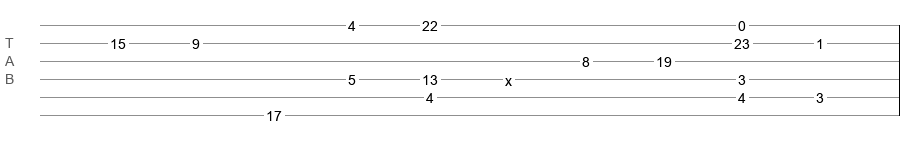0: (738, 18, 746, 28)
1: (816, 36, 824, 46)
13: (422, 72, 438, 82)
15: (110, 36, 126, 46)
17: (266, 108, 282, 118)
19: (656, 54, 672, 64)
22: (422, 18, 438, 28)
23: (734, 36, 750, 46)
3: (738, 72, 746, 82), (816, 90, 824, 100)
4: (348, 18, 356, 28), (426, 90, 434, 100), (738, 90, 746, 100)
5: (348, 72, 356, 82)
8: (582, 54, 590, 64)
9: (192, 36, 200, 46)
x: (505, 73, 512, 81)
